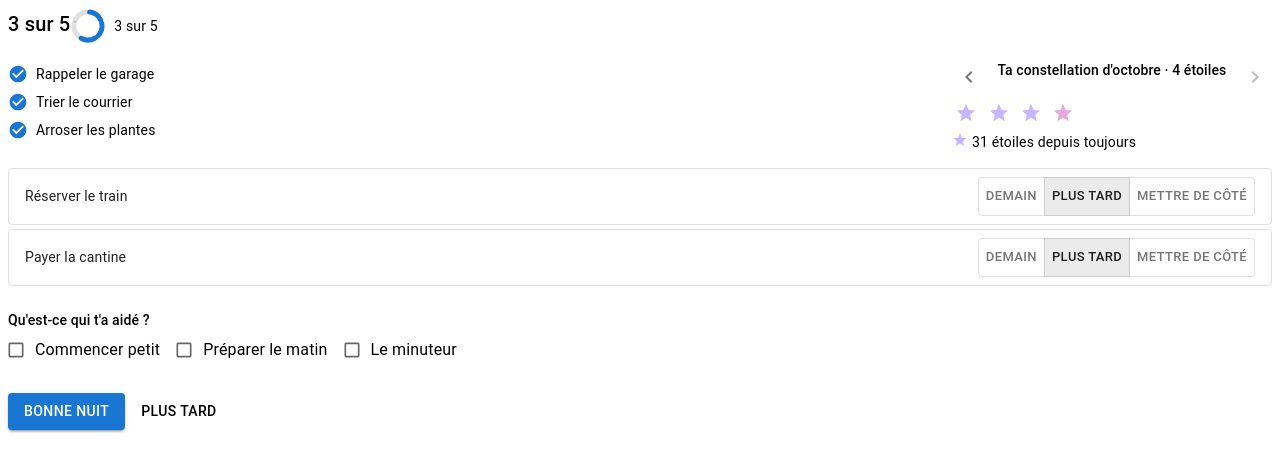
TaskEvening — « Le soir » (MAG-500) › a write that fails halfway shows where the task really is
Click the button with aria-label "Payer la cantine : Mettre de côté" at (1192, 257), box [1129, 238, 1255, 277]
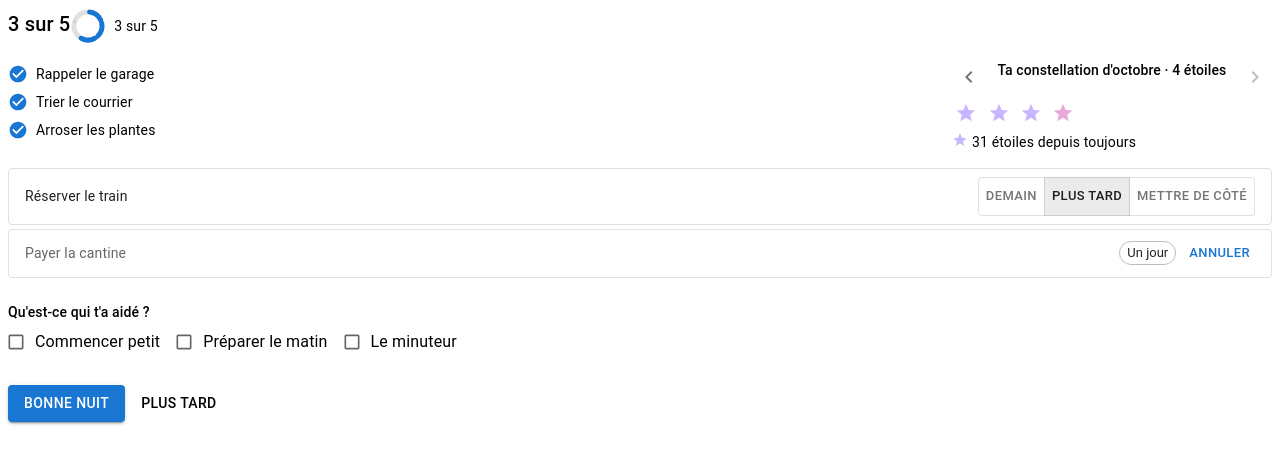
Result: the text "Un jour" is shown at [1127, 245, 1168, 260]
Result: the button with aria-label "Annuler : Payer la cantine" is enabled at [1184, 238, 1255, 269]
